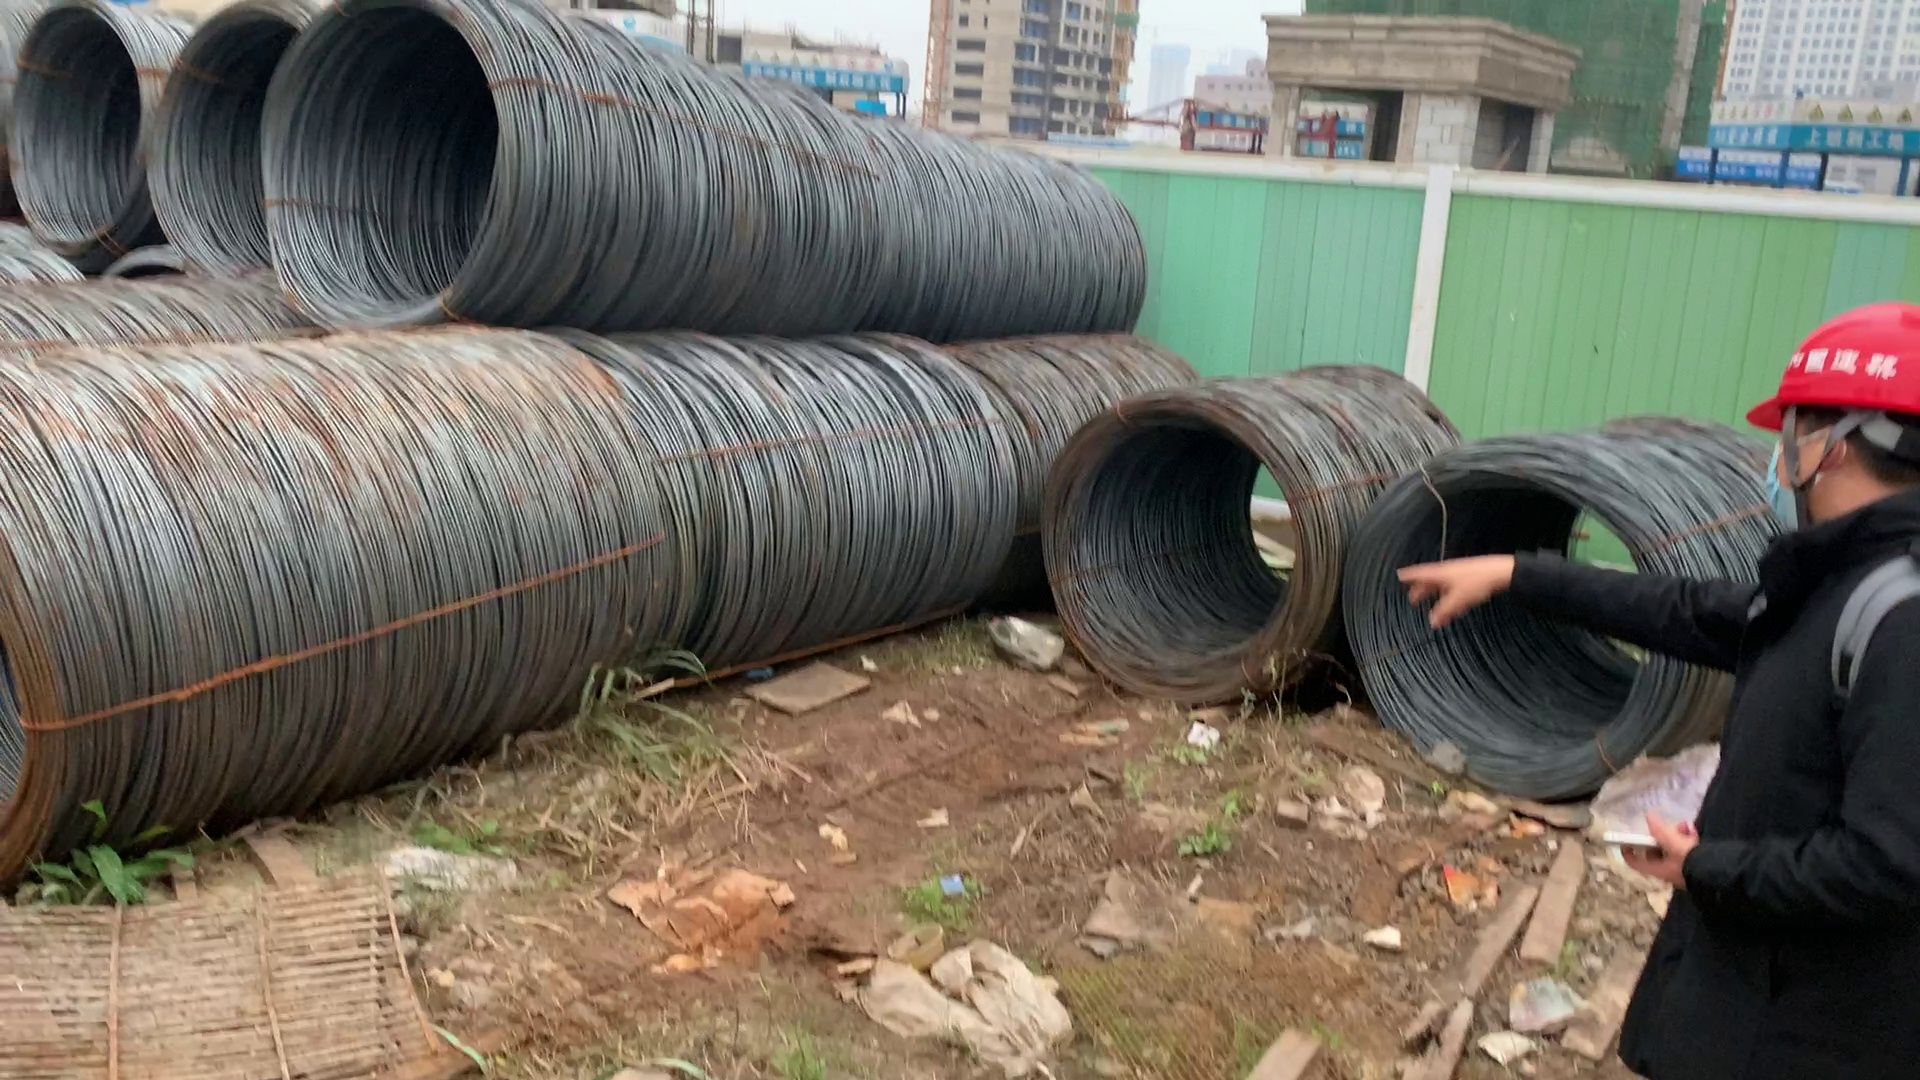coil: (1349, 443, 1691, 804), (1046, 400, 1335, 709), (266, 1, 510, 343), (149, 4, 320, 287), (7, 1, 152, 257)
